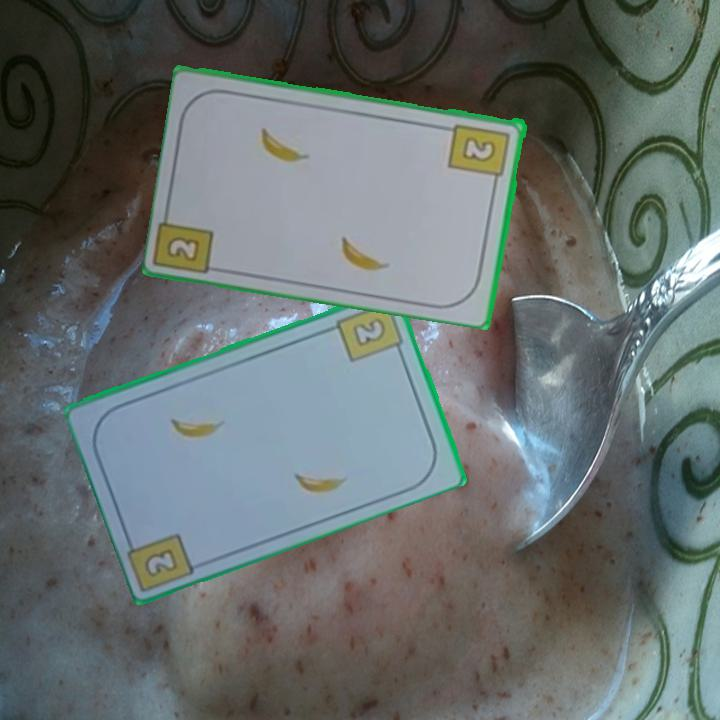2b: (333, 297, 407, 365), (446, 119, 513, 188), (140, 544, 181, 580), (163, 232, 203, 265)
